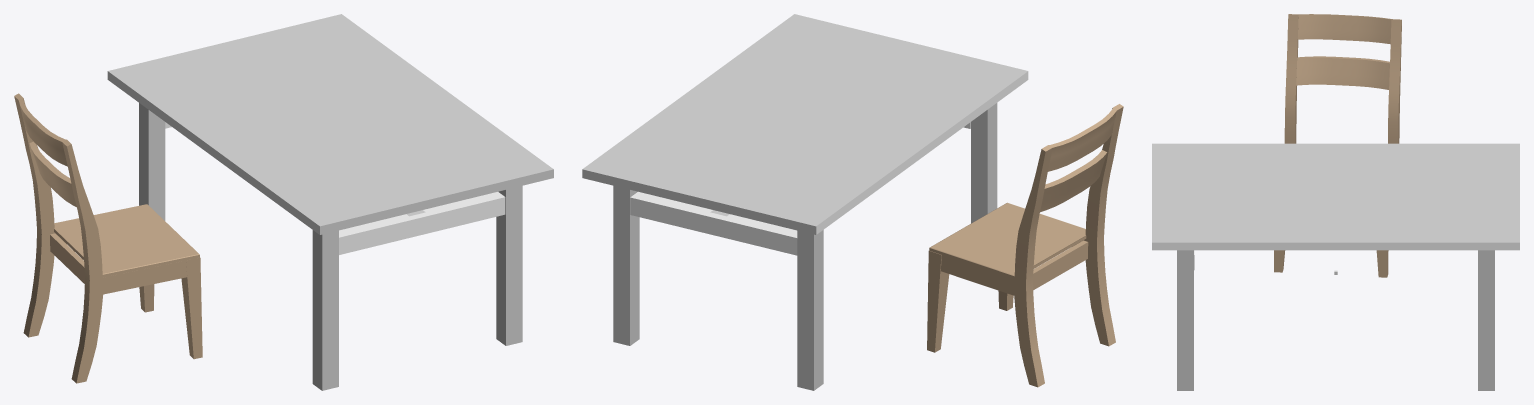
The model's file is chair_table.glb.
3 views of the same model, side by side, from view 1: azimuth 30°, elevation 25°; view 2: azimuth 150°, elevation 25°; view 3: azimuth 270°, elevation 25° (orthographic). The views are drawn at different scales.
Visible parts, largest first — view 1: Platte, Straight_Leg_Chair_Honey_V1; view 2: Platte, Straight_Leg_Chair_Honey_V1; view 3: Platte, Straight_Leg_Chair_Honey_V1.
Part boxes in pixels (bbox=[...]): Platte: bbox=[107, 14, 553, 390]; Straight_Leg_Chair_Honey_V1: bbox=[14, 93, 202, 383]; Platte: bbox=[582, 14, 1028, 390]; Straight_Leg_Chair_Honey_V1: bbox=[927, 104, 1123, 387]; Platte: bbox=[1152, 143, 1519, 390]; Straight_Leg_Chair_Honey_V1: bbox=[1274, 14, 1401, 277].
Size of the model in its own units: 4.86 by 2.78 by 4.36.
